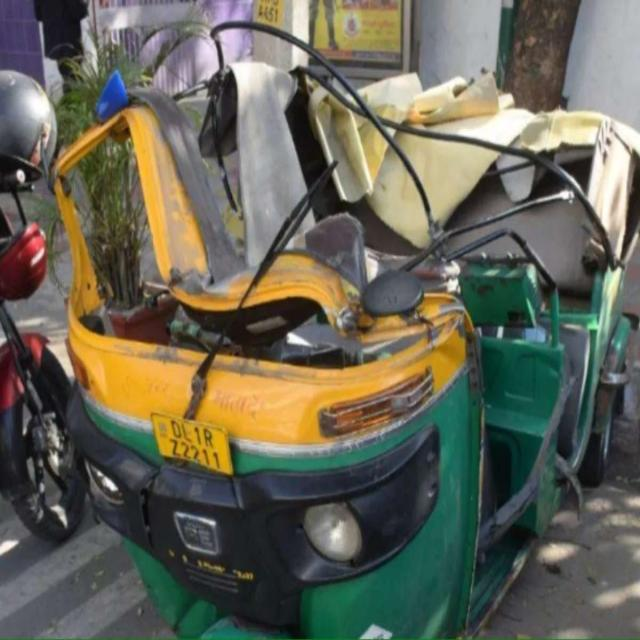accident: (52, 58, 640, 638)
